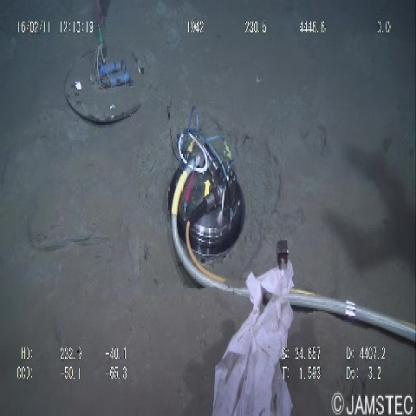Rov: (162, 93, 244, 305), (62, 2, 148, 131)
Rác: (206, 246, 300, 416)
